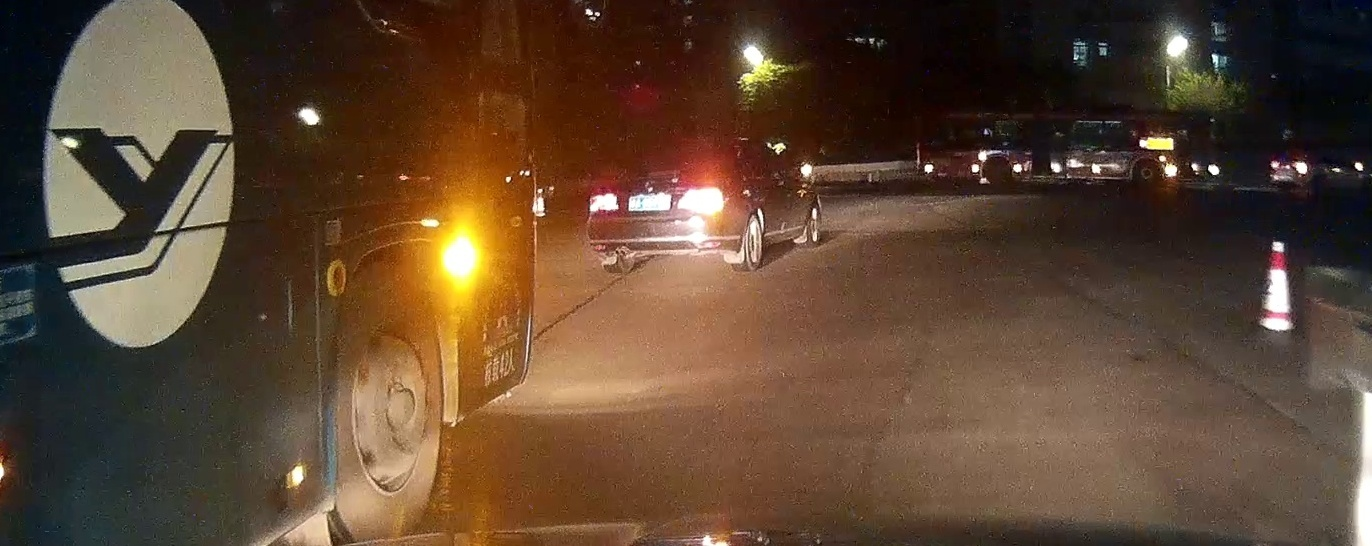L_light: (588, 192, 621, 214)
R_light: (676, 186, 726, 216)
T_light: (659, 139, 686, 146)
night-right: (585, 134, 742, 274)
